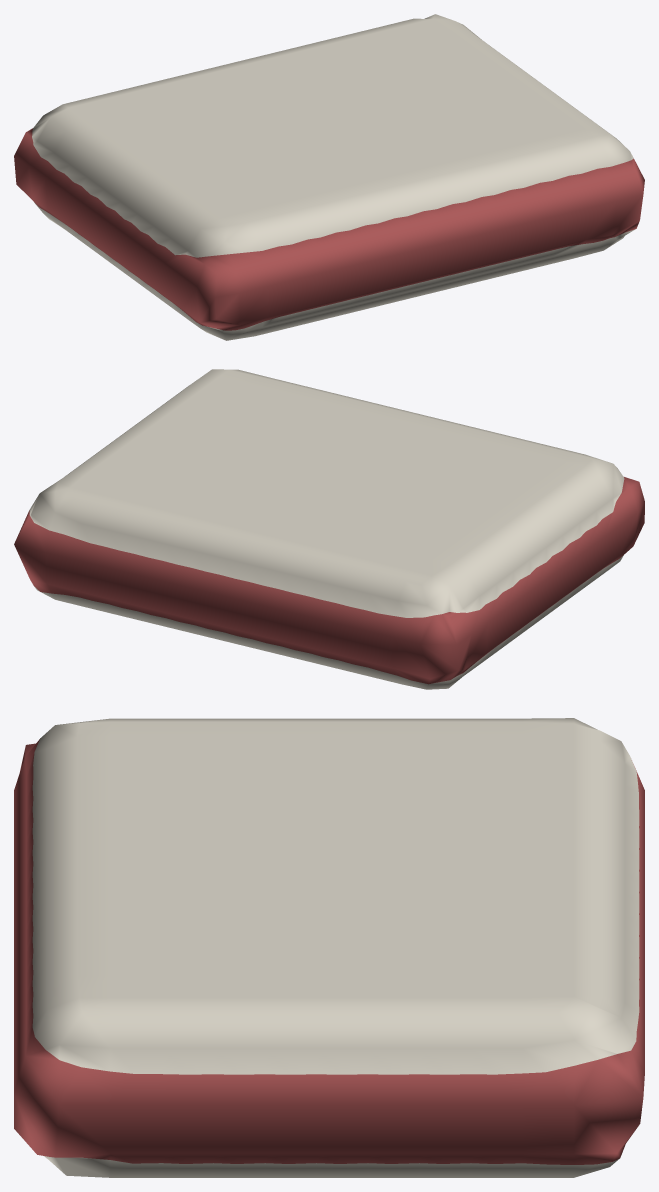
The model's file is orn_c06.glb.
3 renders of one model, top to bottom at view 1: azimuth 30°, elevation 25°; view 2: azimuth 150°, elevation 25°; view 3: azimuth 270°, elevation 25°, orthographic. The views are drawn at different scales.
Parts seen in each view (by area): view 1: orn_c06; view 2: orn_c06; view 3: orn_c06.
Boxes of the visible parts, box(x1,y1,x2,y2) form: orn_c06: box(14, 14, 644, 340); orn_c06: box(14, 369, 644, 689); orn_c06: box(14, 718, 644, 1177).
Size of the model in its own units: 5.8 by 1.4 by 4.6.
